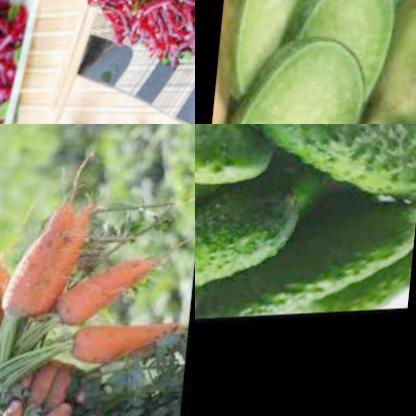beet: (77, 0, 195, 70), (0, 0, 40, 124)
carrot: (0, 193, 95, 331), (49, 258, 161, 328), (61, 318, 192, 376), (0, 218, 17, 359)
cucumber: (195, 209, 416, 322), (248, 124, 416, 221), (195, 181, 305, 305), (195, 124, 284, 201)
redka: (224, 38, 381, 124), (288, 0, 404, 103), (218, 0, 315, 99), (363, 0, 416, 124), (312, 0, 416, 13)
